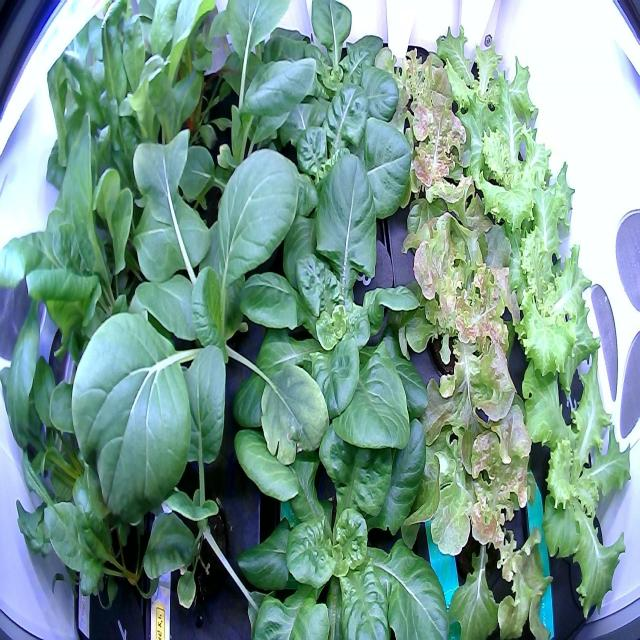young: (225, 143, 432, 472), (223, 373, 453, 640), (226, 79, 415, 256), (247, 0, 406, 148)
